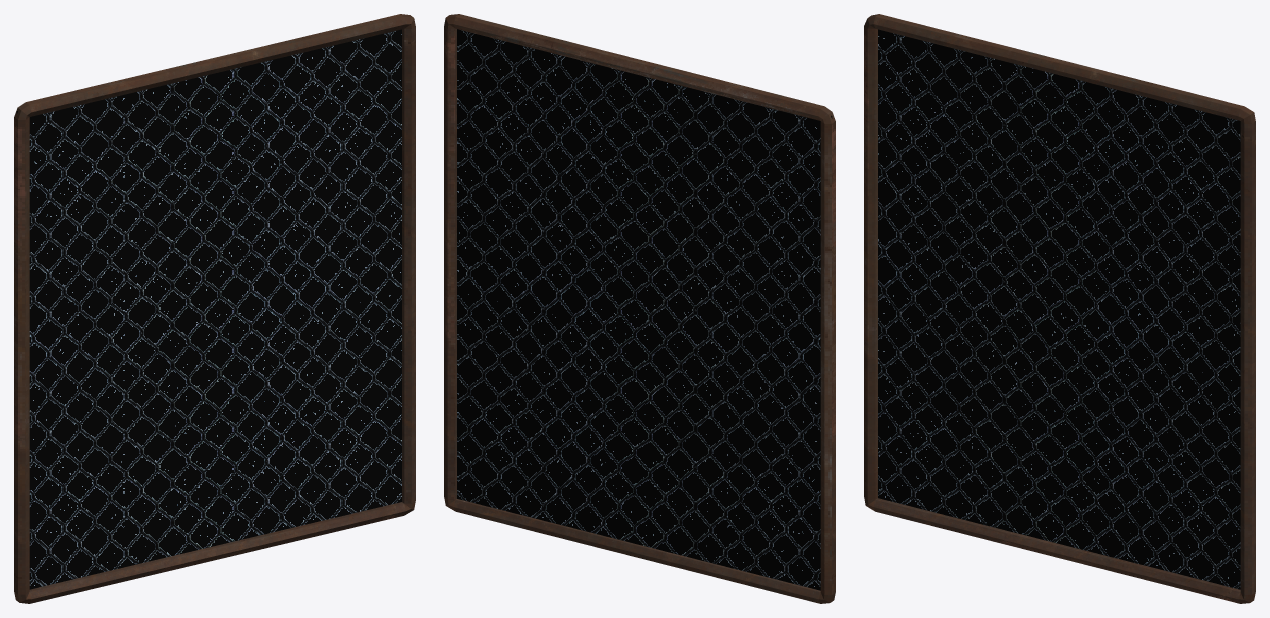
The model's file is gate.glb.
3 renders of one model, left to right at view 1: azimuth 30°, elevation 25°; view 2: azimuth 150°, elevation 25°; view 3: azimuth 330°, elevation 25°, orthographic.
Parts seen in each view (by area): view 1: gate; view 2: gate; view 3: gate.
Part boxes in pixels (x1,y1,x2,y2): gate: (14, 14, 415, 603); gate: (444, 14, 835, 603); gate: (864, 14, 1255, 603).
Bounding box in the file's own units: 1.03 × 1.25 × 0.0504.
2 materials, 2 textured.
